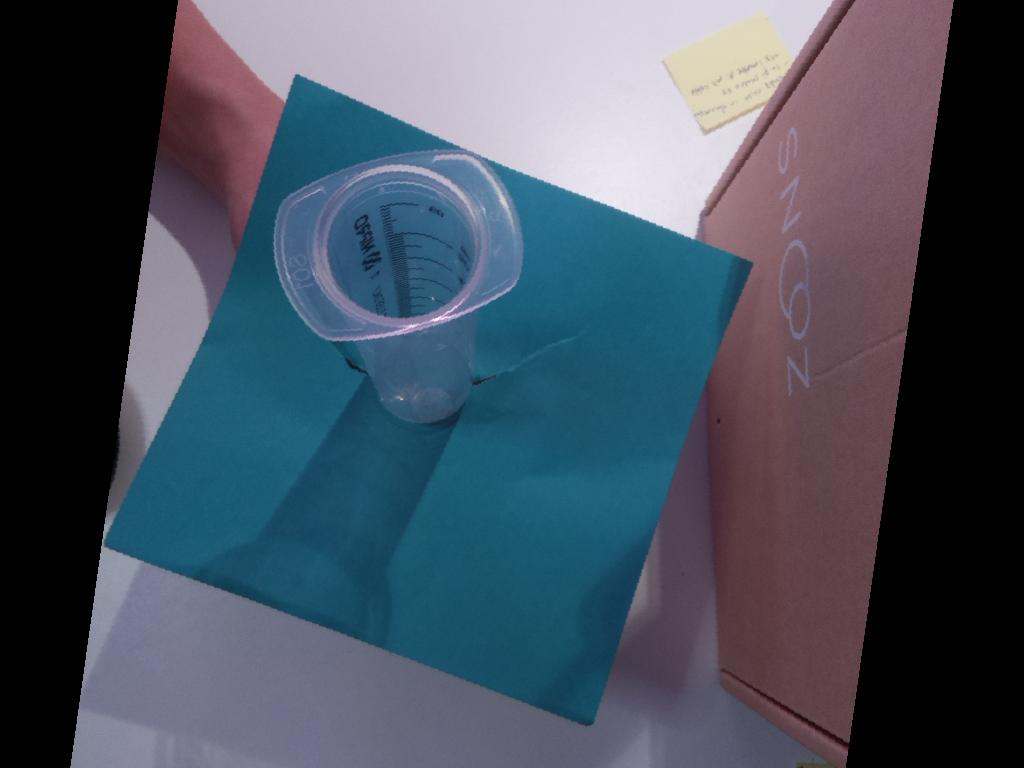clean: (272, 148, 525, 345)
